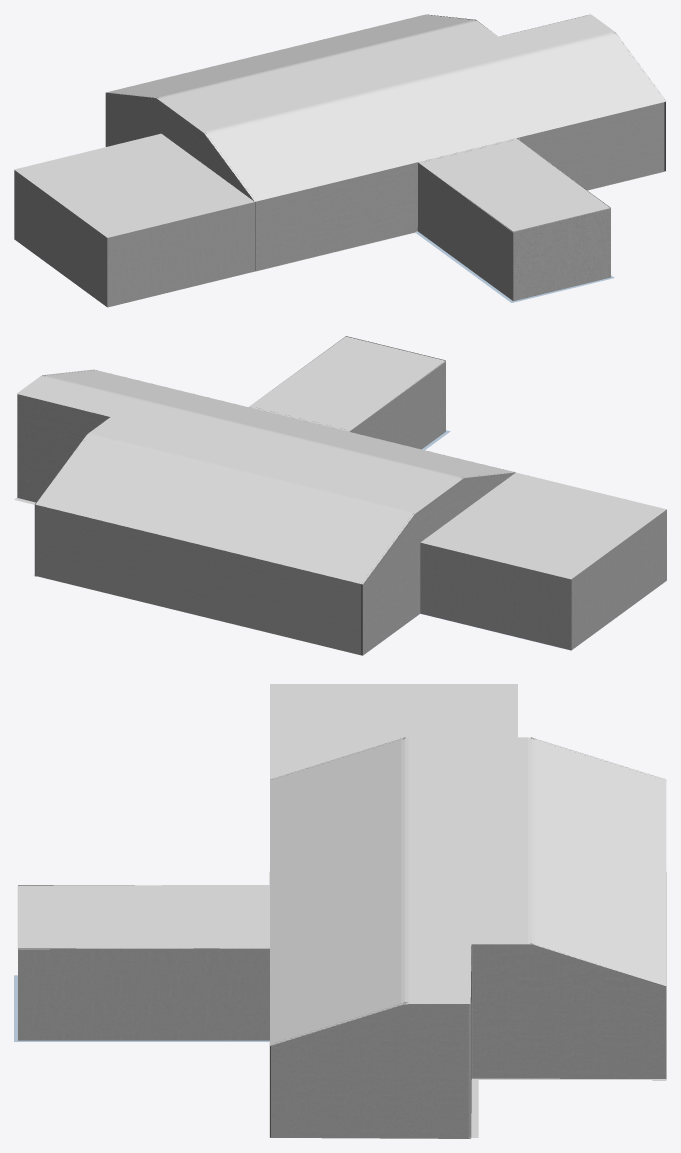
The model's file is room1.glb.
3 views of the same model, one above another, from view 1: azimuth 30°, elevation 25°; view 2: azimuth 150°, elevation 25°; view 3: azimuth 270°, elevation 25° (orthographic). The views are drawn at different scales.
Visible parts, largest first — view 1: Roof_virtual lab_3, Wall_virtual lab_2.001, Wall_lobby, Wall_social space, Roof_lobby, Roof_social space, Roof_virtual lab_1, Wall_virtual lab_1, Ground_social space; view 2: Roof_virtual lab_3, Wall_virtual lab_2.002, Wall_lobby, Roof_lobby, Roof_social space, Wall_virtual lab_3, Wall_social space, Wall_virtual lab_1, Roof_virtual lab_1; view 3: Roof_virtual lab_3, Wall_virtual lab_3, Wall_social space, Roof_social space, Roof_lobby, Ground_virtual lab, Ground_social space.
Part boxes in pixels (left/top/right/bottom): Roof_virtual lab_3: left=106, top=14, right=666, bottom=201; Wall_virtual lab_2.001: left=255, top=102, right=664, bottom=271; Wall_lobby: left=14, top=170, right=254, bottom=307; Wall_social space: left=415, top=137, right=610, bottom=301; Roof_lobby: left=14, top=133, right=254, bottom=237; Roof_social space: left=418, top=138, right=609, bottom=232; Roof_virtual lab_1: left=106, top=92, right=254, bottom=201; Wall_virtual lab_1: left=105, top=93, right=160, bottom=146; Ground_social space: left=415, top=232, right=614, bottom=302; Roof_virtual lab_3: left=16, top=369, right=515, bottom=584; Wall_virtual lab_2.002: left=35, top=504, right=360, bottom=655; Wall_lobby: left=420, top=509, right=666, bottom=650; Roof_lobby: left=420, top=472, right=666, bottom=579; Roof_social space: left=248, top=336, right=445, bottom=431; Wall_virtual lab_3: left=17, top=370, right=109, bottom=576; Wall_social space: left=277, top=336, right=445, bottom=449; Wall_virtual lab_1: left=362, top=543, right=420, bottom=655; Roof_virtual lab_1: left=363, top=472, right=514, bottom=583; Roof_virtual lab_3: left=270, top=737, right=666, bottom=1045; Wall_virtual lab_3: left=270, top=943, right=666, bottom=1138; Wall_social space: left=18, top=885, right=269, bottom=1040; Roof_social space: left=17, top=885, right=269, bottom=949; Roof_lobby: left=270, top=684, right=517, bottom=779; Ground_virtual lab: left=269, top=871, right=666, bottom=1137; Ground_social space: left=14, top=975, right=269, bottom=1041.
Size of the model in its own units: 28.03 by 4.91 by 21.37.
49 materials, 5 textured.
